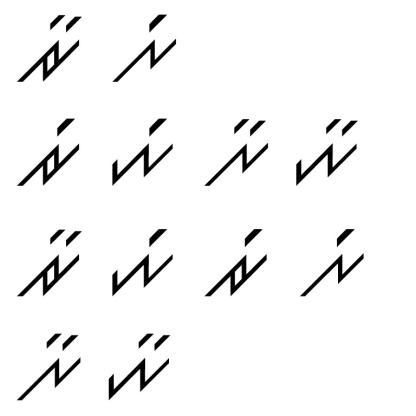lan: (201, 108, 274, 190), (12, 328, 82, 404)
lang: (295, 225, 366, 305), (112, 16, 182, 84)
ran: (12, 222, 82, 301), (17, 14, 91, 87)
rang: (198, 225, 272, 304), (12, 117, 84, 190)
yan: (289, 112, 365, 189), (99, 333, 178, 402)
yang: (102, 224, 183, 300), (104, 112, 179, 188)
